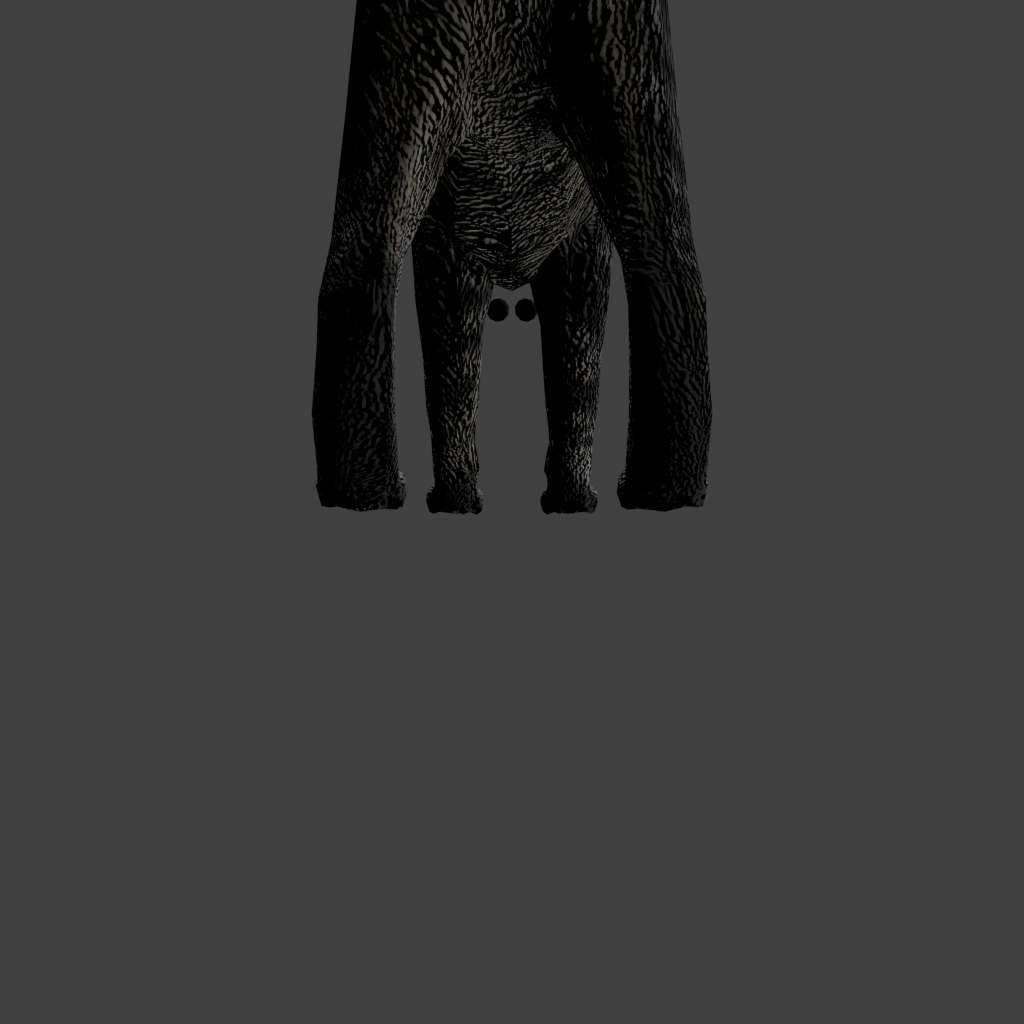Cat: (312, 0, 401, 515)
